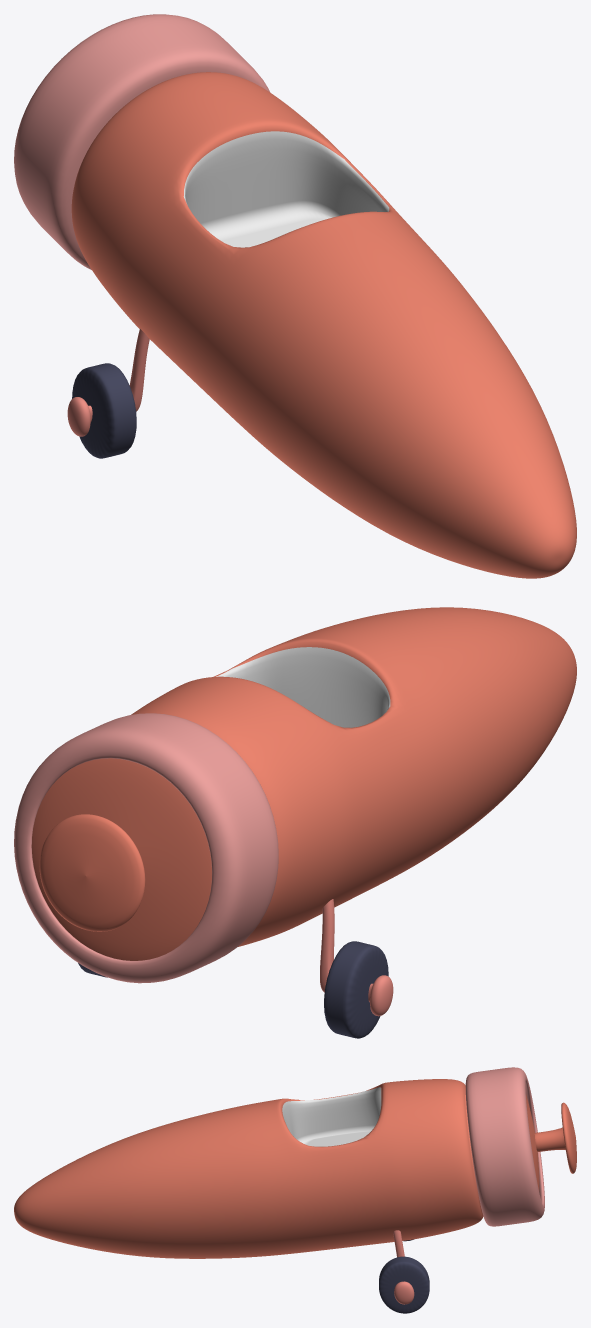
The model's file is Body.fbx.
3 renders of one model, top to bottom at view 1: azimuth 30°, elevation 25°; view 2: azimuth 150°, elevation 25°; view 3: azimuth 270°, elevation 25°, orthographic. The views are drawn at different scales.
Parts seen in each view (by area): view 1: body, frontMetal, wheels, wheel_support; view 2: body, frontMetal, Plane, wheels, wheel_support; view 3: body, frontMetal, wheels, Plane, wheel_support.
Part boxes in pixels (x1,y1,x2,y2): body: (71,72,576,578); frontMetal: (14,14,270,269); wheels: (72,363,136,458); wheel_support: (67,329,149,436); body: (31,607,576,960); frontMetal: (14,713,278,983); Plane: (39,814,145,931); wheels: (78,941,388,1038); wheel_support: (320,899,393,1016); body: (14,1079,539,1258); frontMetal: (465,1067,544,1226); wheels: (379,1239,429,1313); Plane: (534,1102,576,1173); wheel_support: (393,1230,414,1304).
Size of the model in its own units: 0.6448 by 0.6547 by 1.67.
